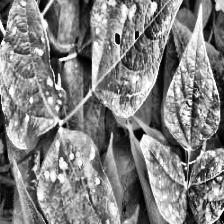Bean Rust: (90, 0, 201, 113), (0, 0, 66, 133), (35, 127, 124, 224), (169, 14, 217, 142), (139, 134, 188, 222), (187, 146, 224, 224)
